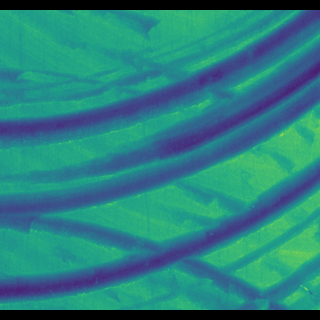Loch: (0, 17, 320, 214), (0, 155, 318, 298), (113, 196, 320, 299)
